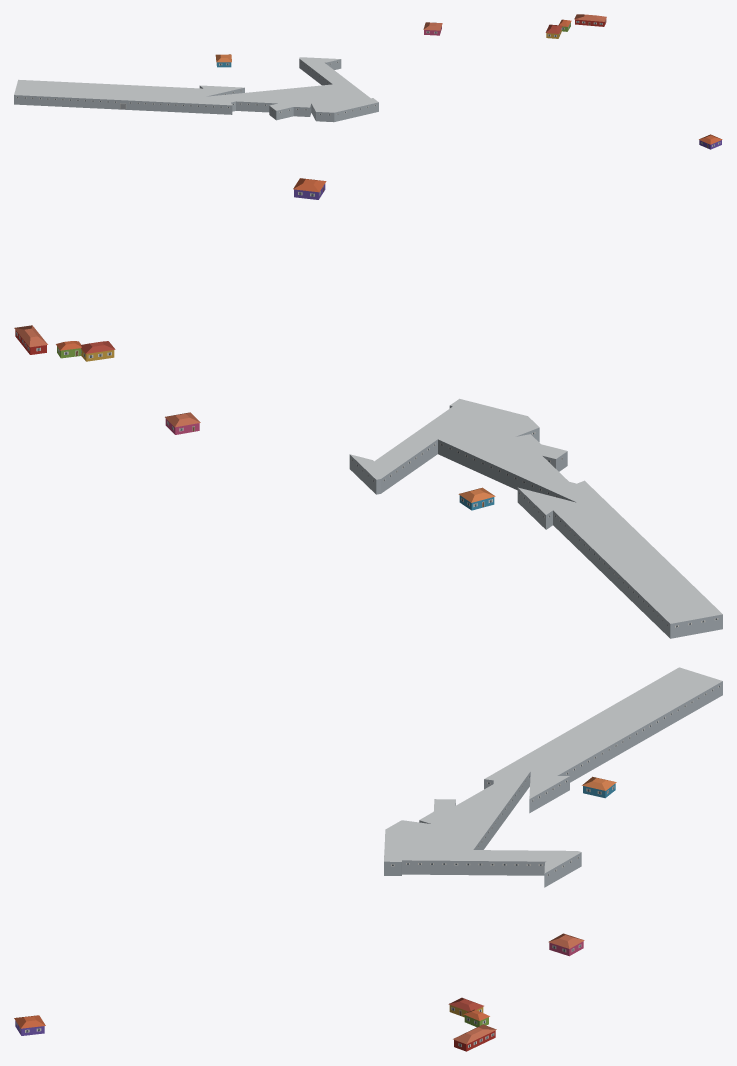
Rendered from msb_oranjestad_m21_m1.glb.
The picture shows the model from 3 angles, top to bottom: view 1: azimuth 30°, elevation 25°; view 2: azimuth 150°, elevation 25°; view 3: azimuth 270°, elevation 25°; orthographic projection. The views are drawn at different scales.
Visible parts, largest first — view 1: msb_oranjestad_m21_m1_lod0; view 2: msb_oranjestad_m21_m1_lod0; view 3: msb_oranjestad_m21_m1_lod0.
Boxes of the visible parts, <box> form: msb_oranjestad_m21_m1_lod0: <box>14,14,722,149</box>; msb_oranjestad_m21_m1_lod0: <box>14,178,722,638</box>; msb_oranjestad_m21_m1_lod0: <box>14,667,722,1051</box>.
Size of what is drawn, in the model's own units: 363 by 15.33 by 285.
3 materials, 1 textured.
